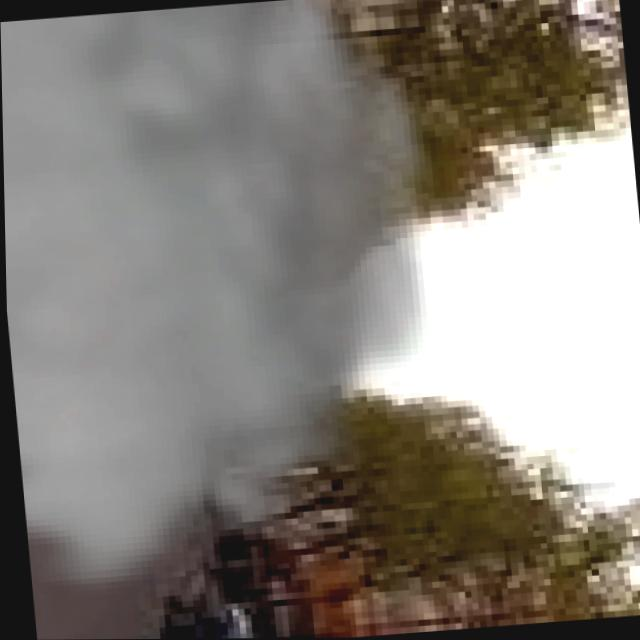smoke: (0, 0, 485, 605)
